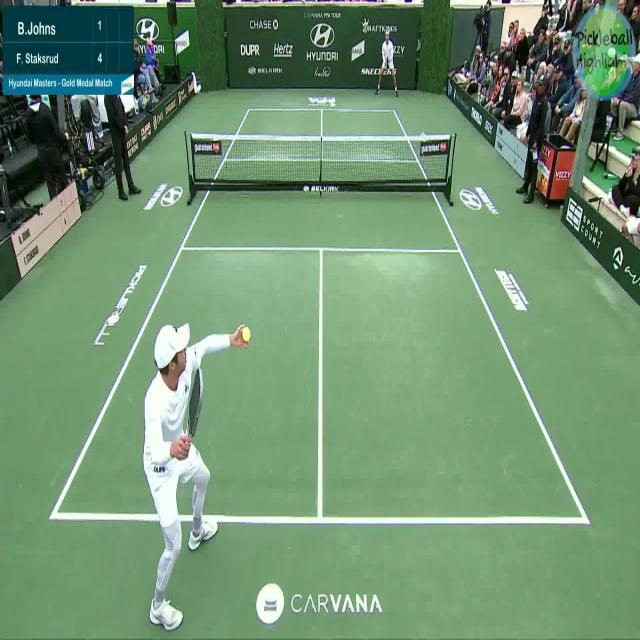Court: (51, 109, 586, 523)
ball: (240, 327, 253, 348)
